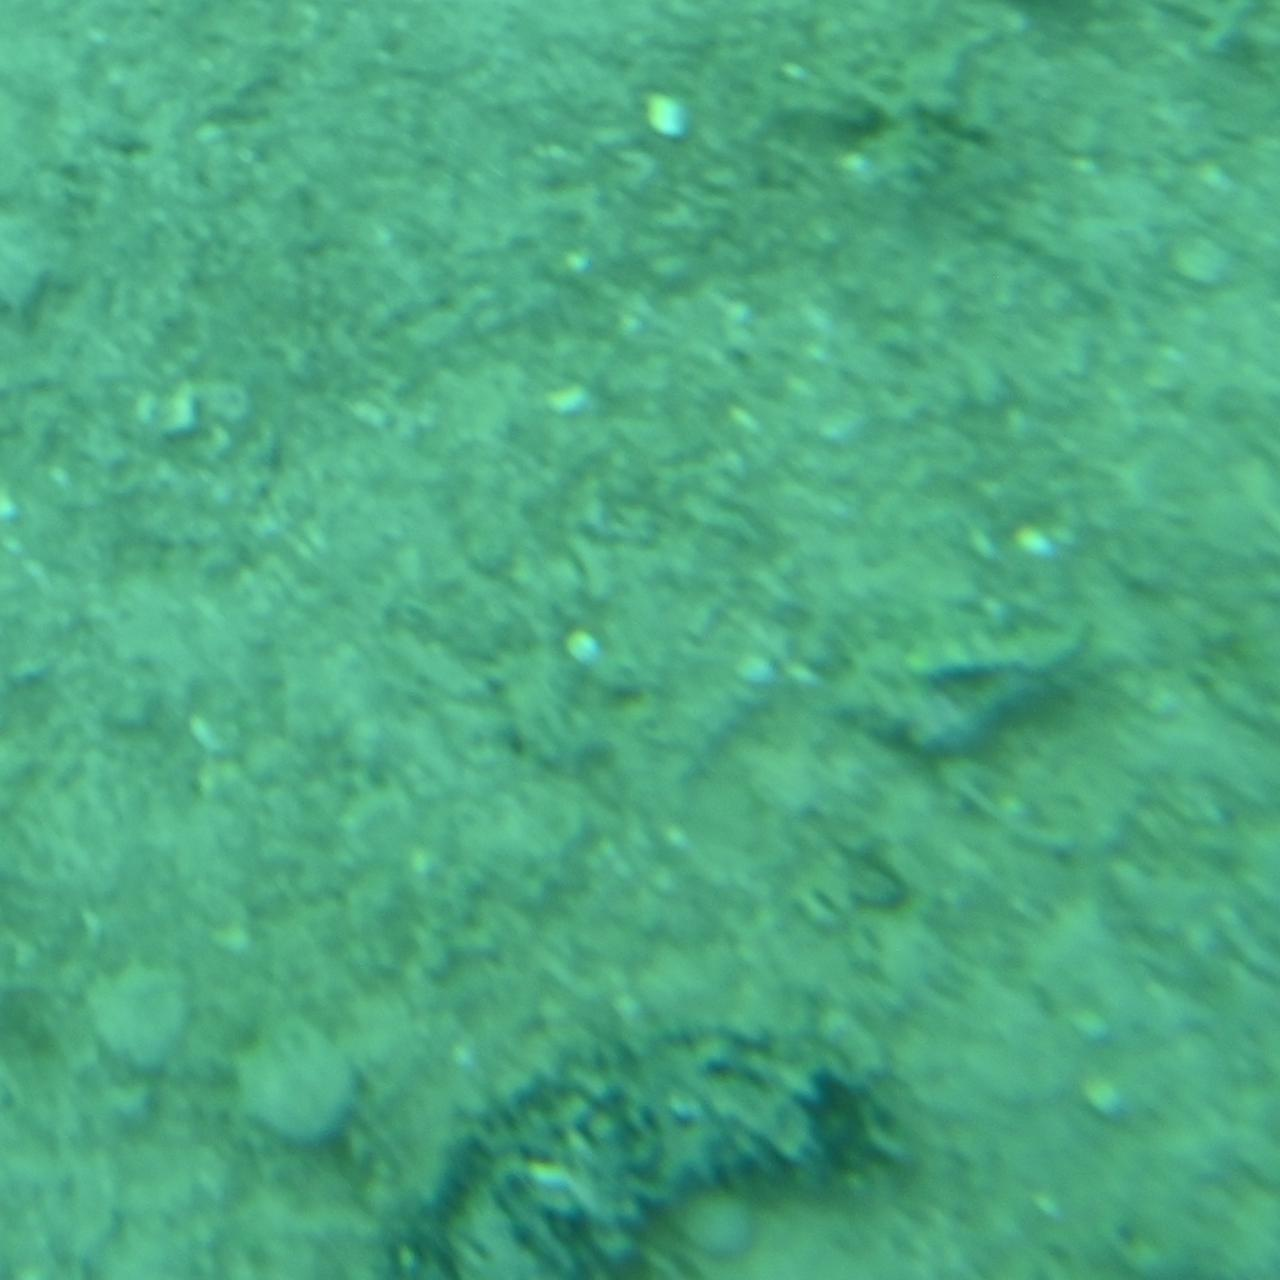Holothuria tubulosa: (397, 1009, 883, 1279)
